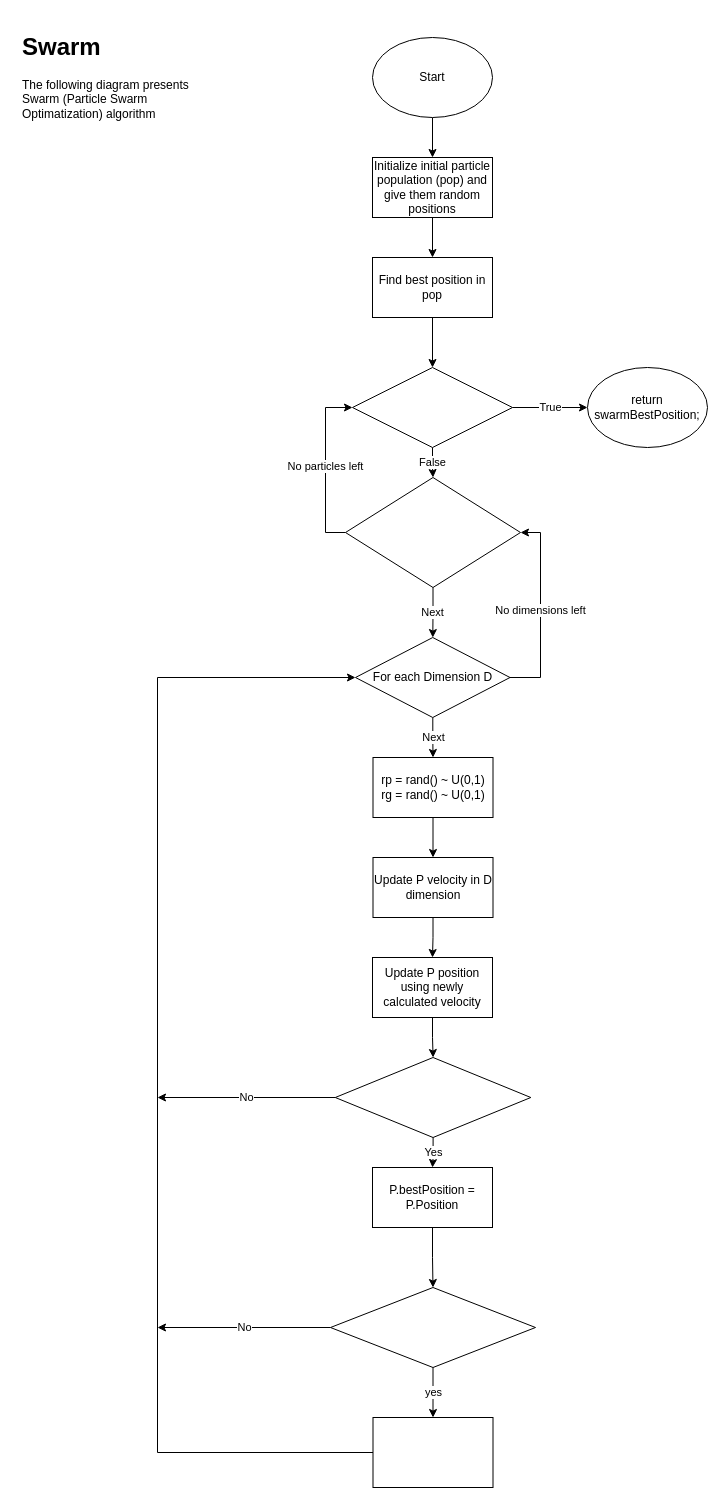
This 725x1505 diagram has some shape labels left out. The shapes that lost their labels are listed below. From the top down, each one's centre as x and y in pixels, then its label:
At [432,407]: "Termination Condition".
At [432,532]: "For each Particle P in pop".
At [432,1097]: "f(P.Position) < f(bestPosition)".
At [433,1327]: "f(P.bestPosition) < f(swarmBestPosition)".
At [432,1452]: "swarmBestPosition = P.bestPosition".
